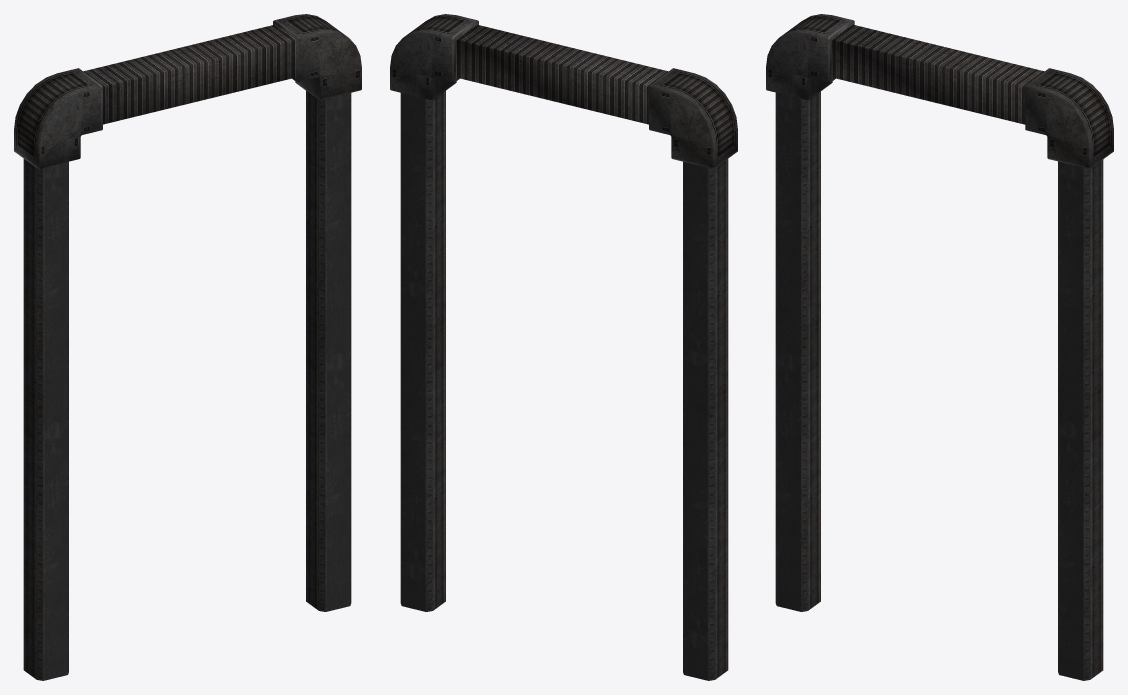
File: 04_02_airlock_frame.dae
3 renders of one model, left to right at view 1: azimuth 30°, elevation 25°; view 2: azimuth 150°, elevation 25°; view 3: azimuth 330°, elevation 25°, orthographic.
Visible parts, largest first — view 1: polySurface24, polySurface25, pCube13, polySurface26, polySurface5; view 2: polySurface24, polySurface25, pCube13, polySurface26, polySurface5; view 3: polySurface25, polySurface24, pCube13, polySurface5, polySurface26.
Boxes of the visible parts, x1,y1,x2,y2 form: polySurface24: (23, 159, 68, 680); polySurface25: (306, 91, 351, 611); pCube13: (83, 24, 296, 124); polySurface26: (14, 68, 102, 168); polySurface5: (273, 14, 361, 99); polySurface24: (683, 159, 728, 680); polySurface25: (400, 91, 445, 611); pCube13: (455, 24, 668, 124); polySurface26: (649, 68, 737, 168); polySurface5: (390, 14, 478, 99); polySurface25: (1058, 159, 1103, 680); polySurface24: (775, 91, 820, 611); pCube13: (831, 24, 1044, 124); polySurface5: (1025, 68, 1113, 168); polySurface26: (766, 14, 854, 99).
Size of the model in its own units: 1.88 by 3.24 by 0.25.
